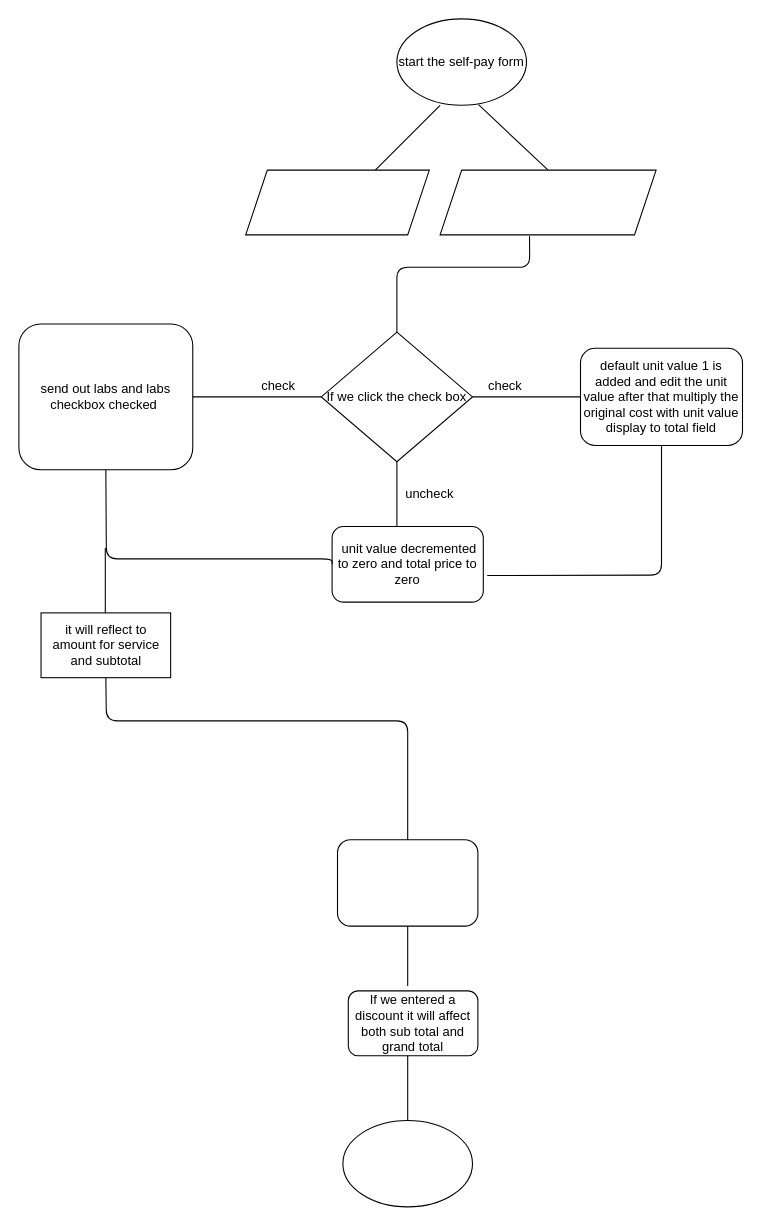
Some shapes in this 761 by 1226 pixel diagram are drawn without their labels. The centre of each missing label's shape, as x and y in pixels:
Adding subtotal and the remaining checkbox checked total reflect to grand total: the point at 407,882
Complete the form: the point at 407,1163
Design this form using bootstrap: the point at 337,202
Functionality this form using javascript: the point at 547,202
